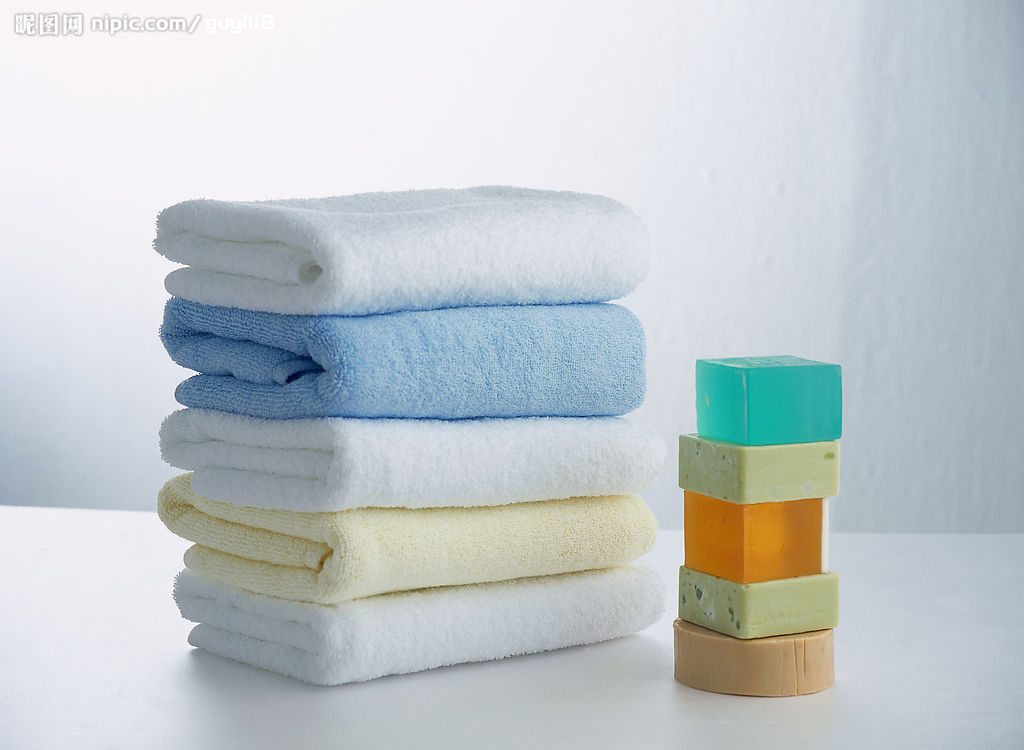flexible: (147, 181, 669, 698)
